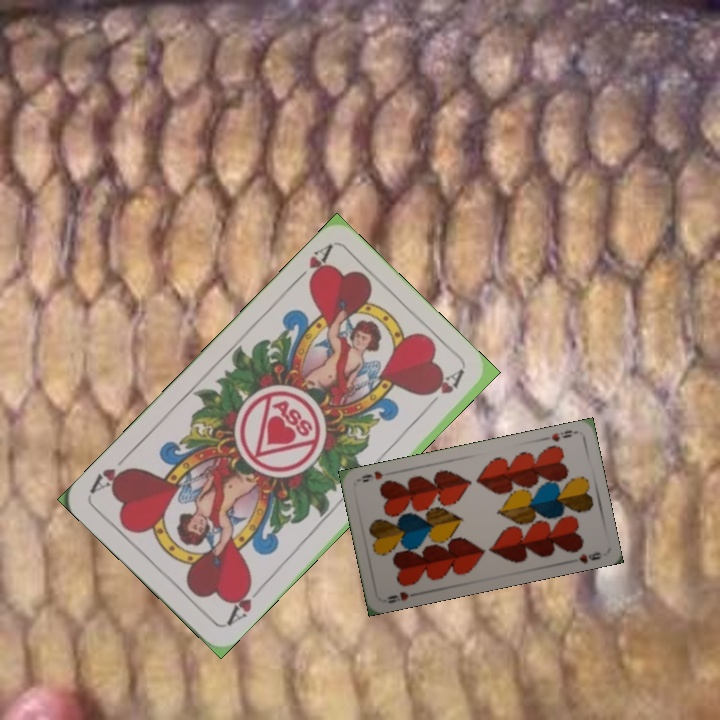H9: (383, 587, 421, 606), (547, 426, 575, 444)
HA: (288, 240, 335, 291), (222, 578, 267, 629)
